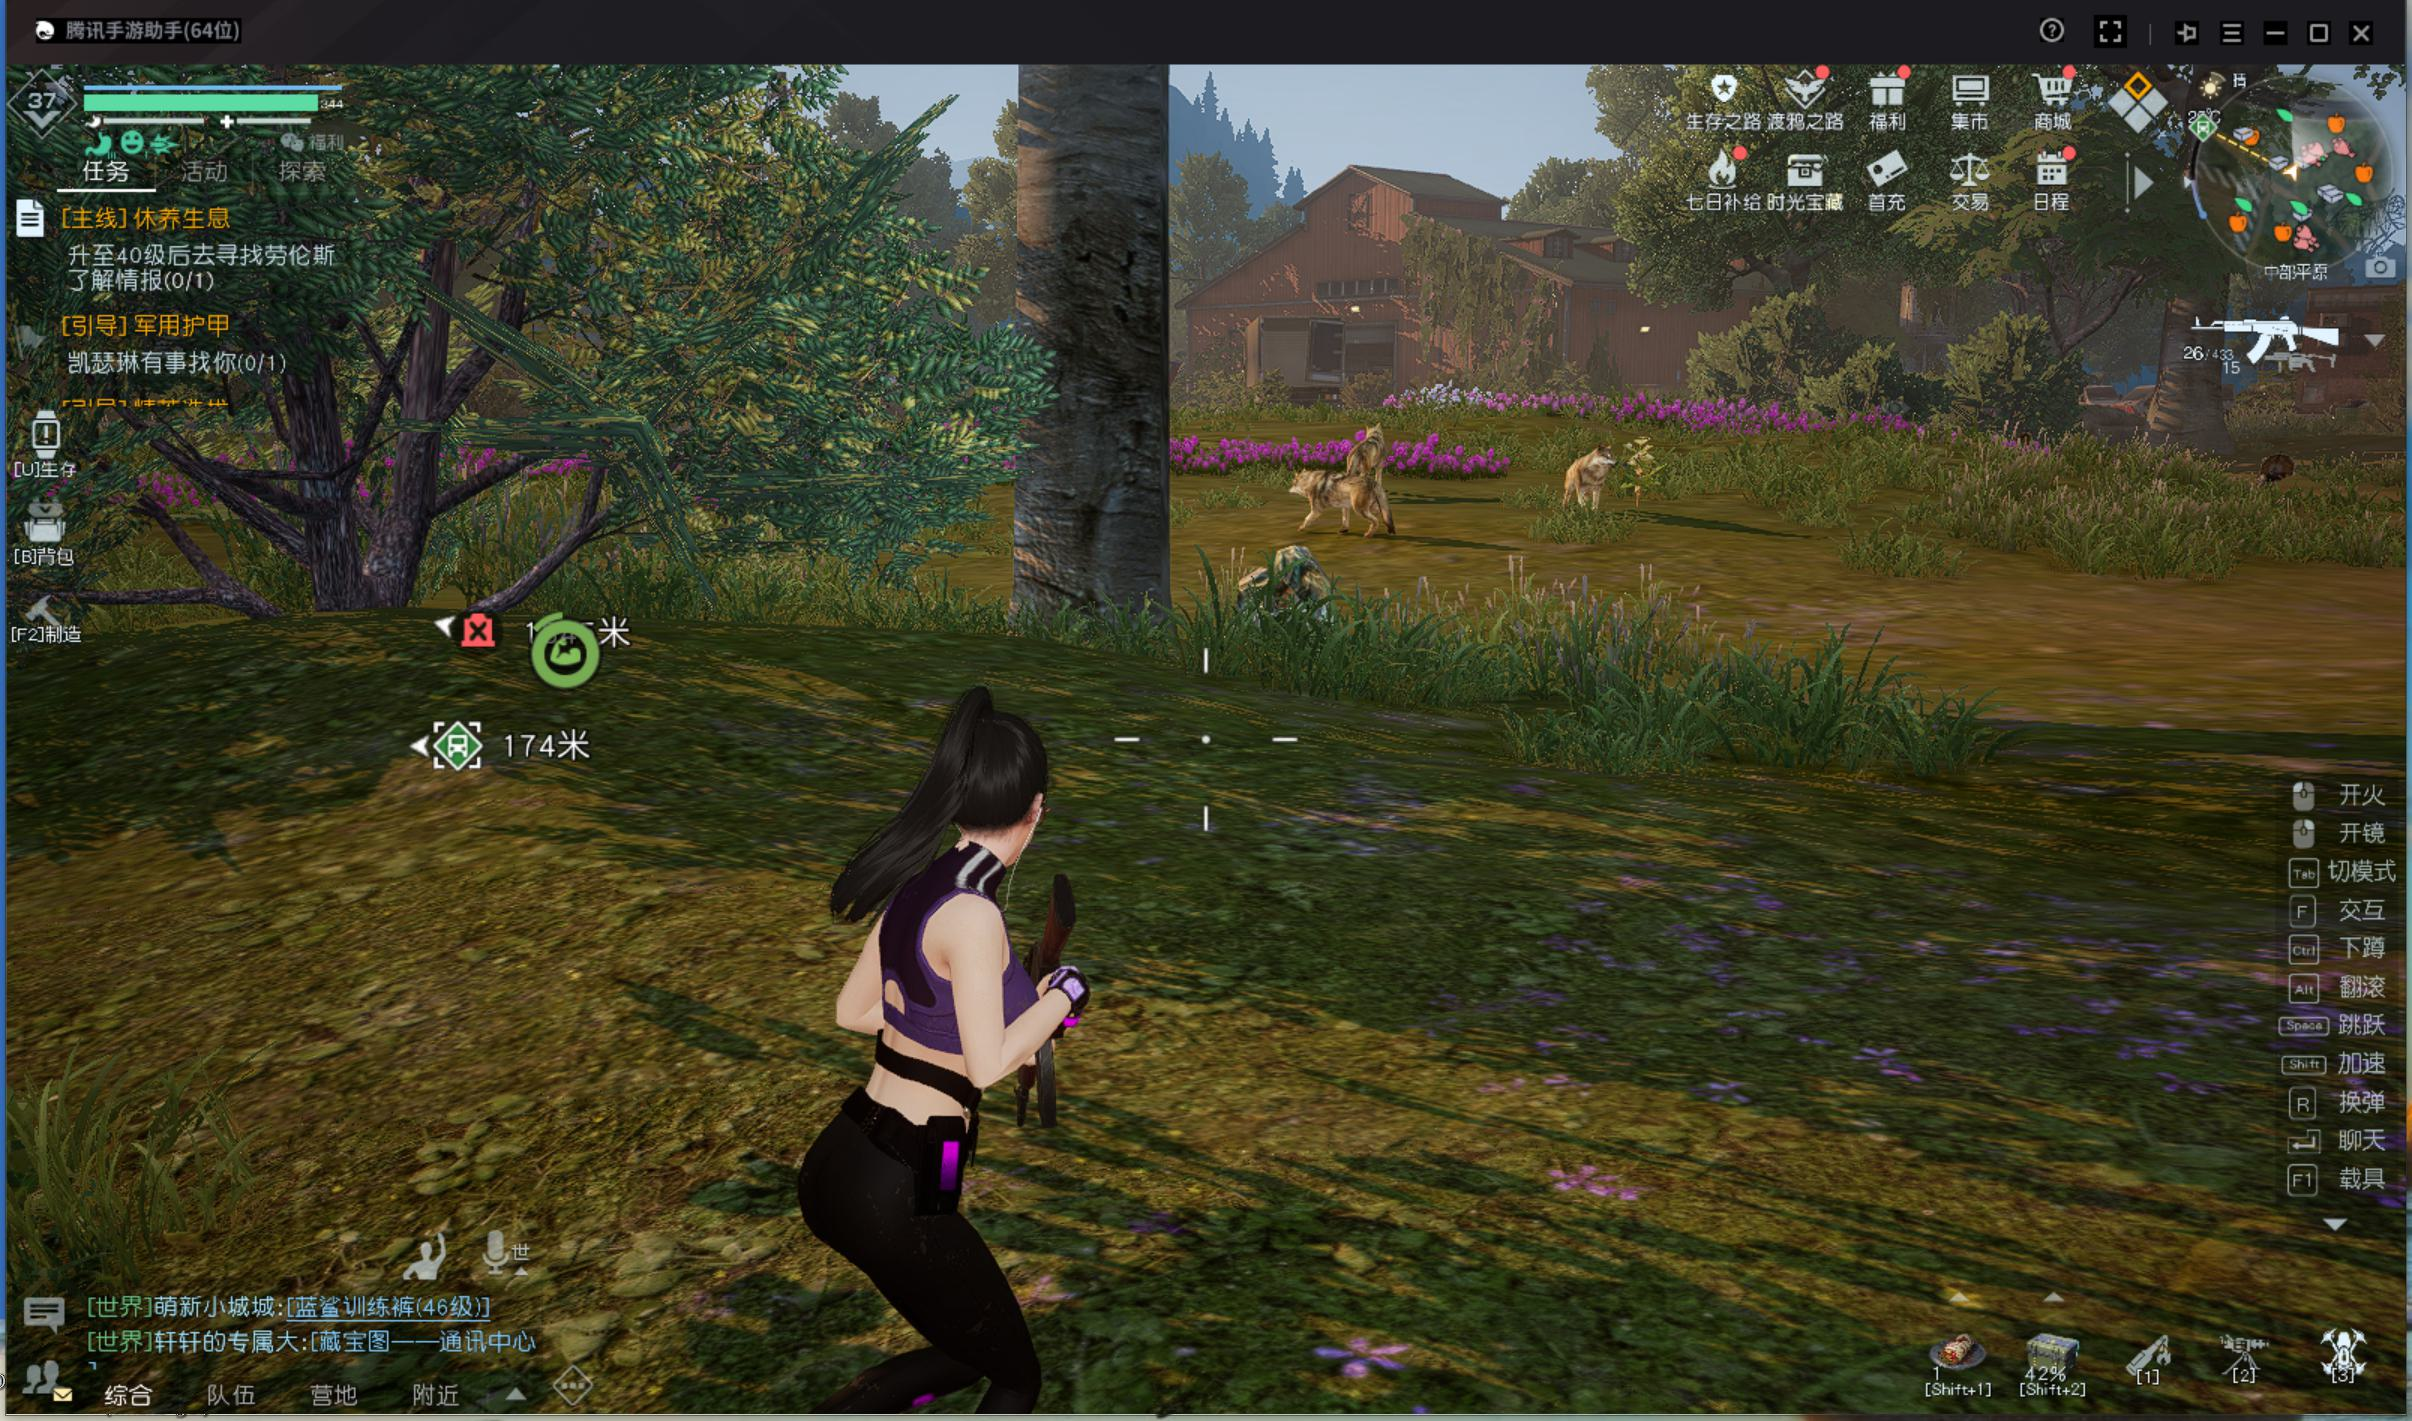stone: (1220, 541, 1345, 646)
tree: (991, 103, 1186, 661), (2145, 284, 2236, 467)
